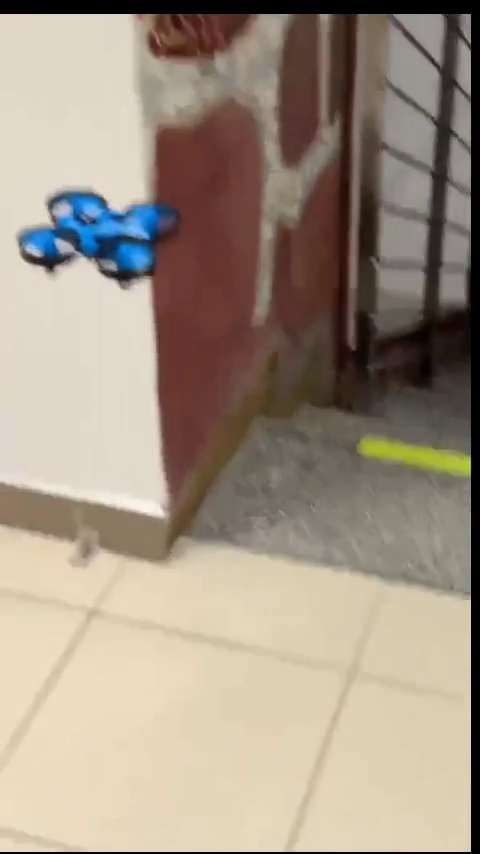drone: (17, 184, 201, 295)
